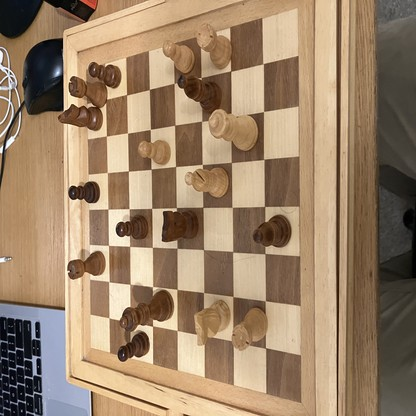bishop_black: (178, 76, 222, 112), (253, 215, 292, 247)
bishop_white: (185, 167, 228, 198)
knight_black: (59, 104, 103, 132), (161, 210, 198, 243)
pawn_black: (118, 332, 150, 360), (116, 214, 148, 239), (90, 63, 121, 87), (68, 181, 100, 203)
pawn_white: (163, 42, 195, 73), (138, 141, 172, 164)
queen_black: (120, 292, 173, 331)
queen_white: (209, 109, 257, 149)
rock_black: (69, 77, 108, 107), (67, 252, 105, 280)
rock_white: (196, 24, 231, 69), (232, 308, 268, 351)
